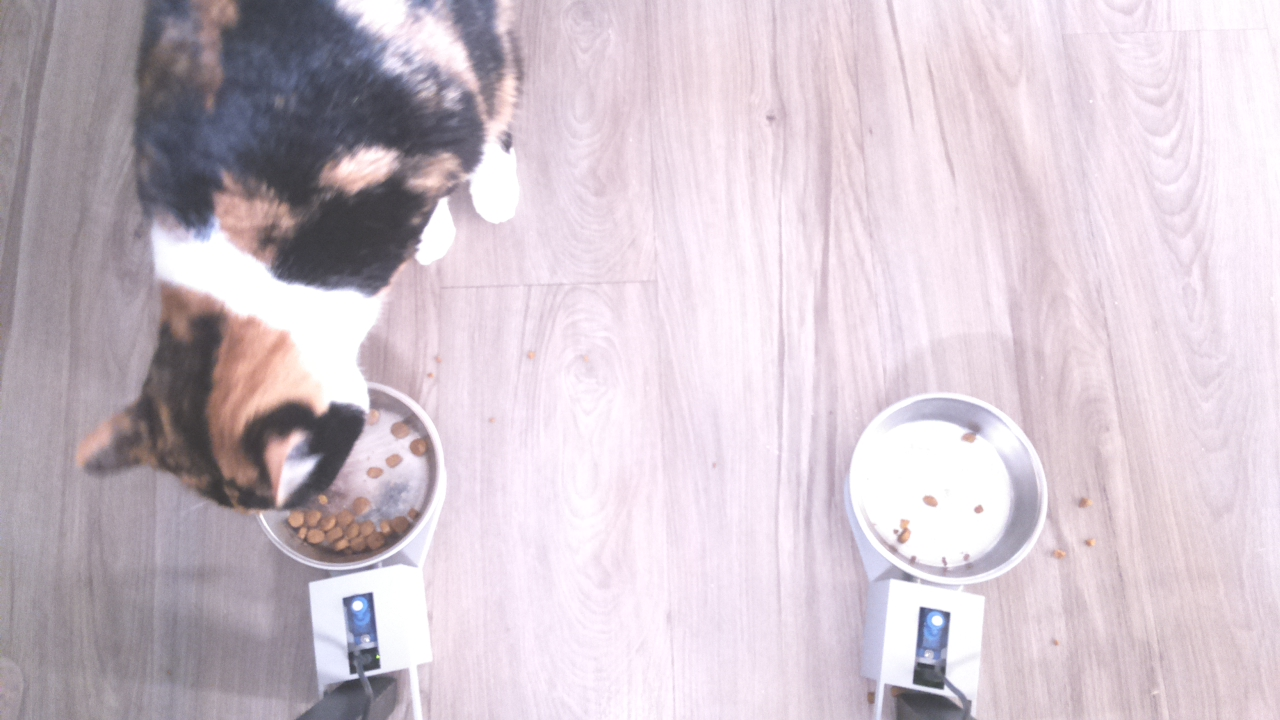bella_eating: (63, 218, 358, 511)
open_bowl: (843, 387, 1050, 589), (272, 383, 447, 573)
